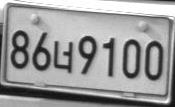0: (121, 37, 141, 79), (144, 39, 164, 81)
1: (98, 36, 118, 77)
6: (31, 31, 51, 71)
8: (9, 29, 30, 69)
9: (77, 35, 97, 74)
너: (53, 39, 74, 73)
